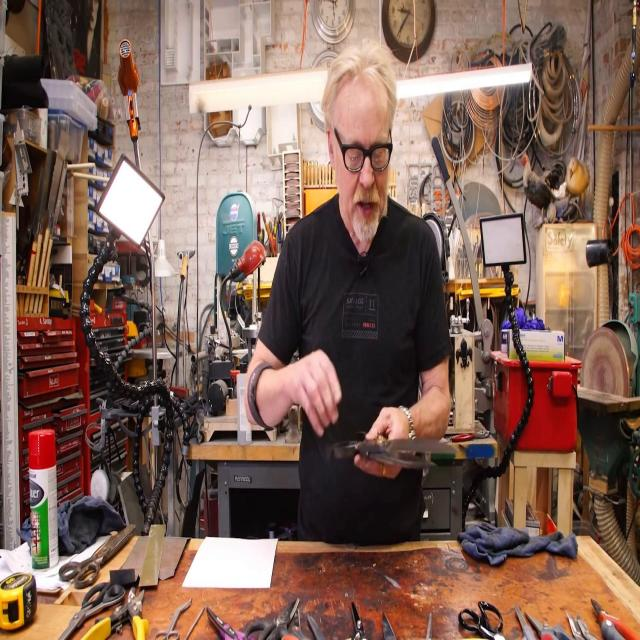scissor: (58, 522, 138, 590), (333, 434, 457, 470), (57, 579, 124, 640), (240, 598, 300, 640), (458, 600, 504, 640), (156, 597, 193, 640), (525, 607, 573, 640), (208, 607, 252, 640), (516, 601, 537, 640), (286, 607, 308, 640)
